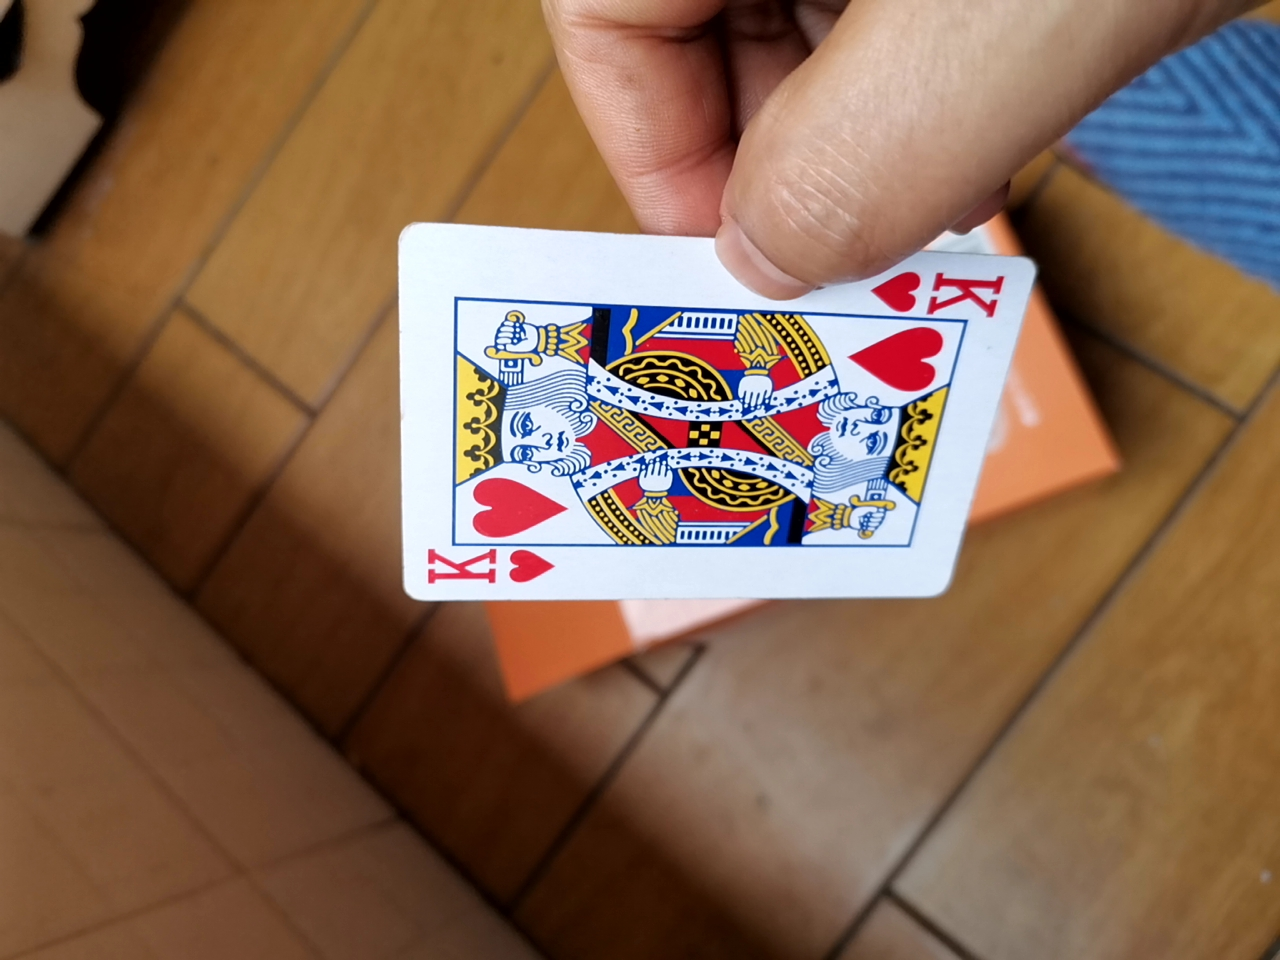hx k: (373, 228, 1041, 626)
